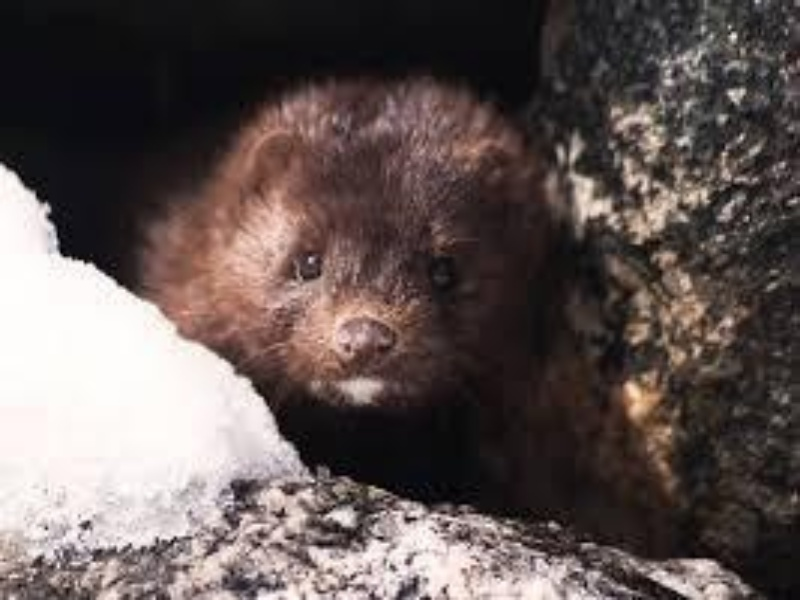minkish: (144, 73, 535, 511)
